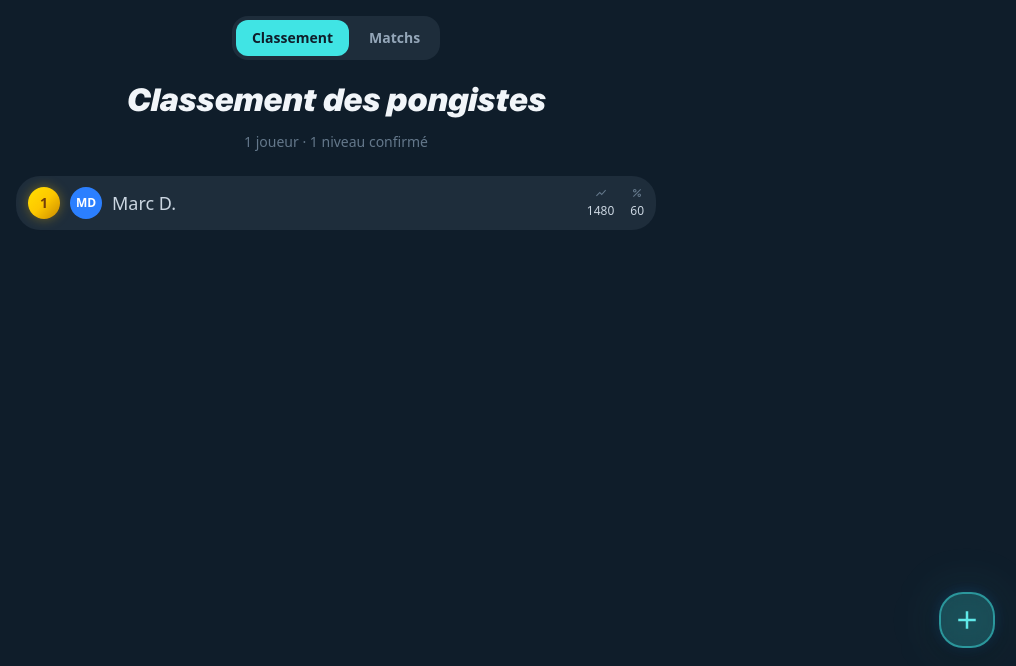
Test: PingpongPage › the matches section › renders a card per match on the matches tab
Click the tab "Matchs" at {"x": 395, "y": 38}, box [353, 20, 436, 56]
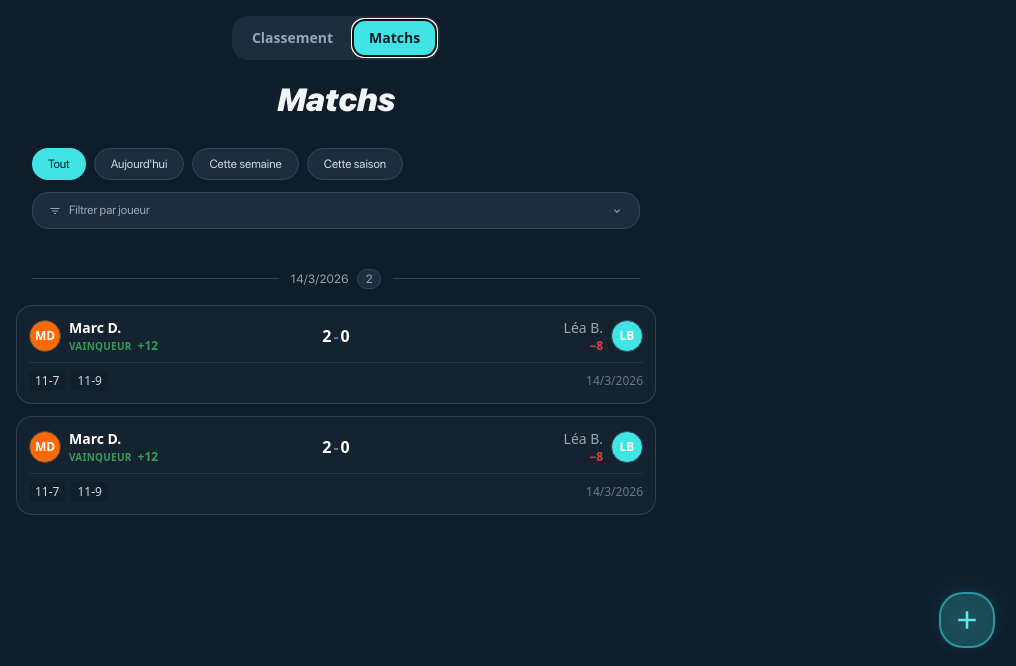
Now the number of elements with test id "match-card" is 2, box [16, 305, 656, 404]; [16, 416, 656, 515]
